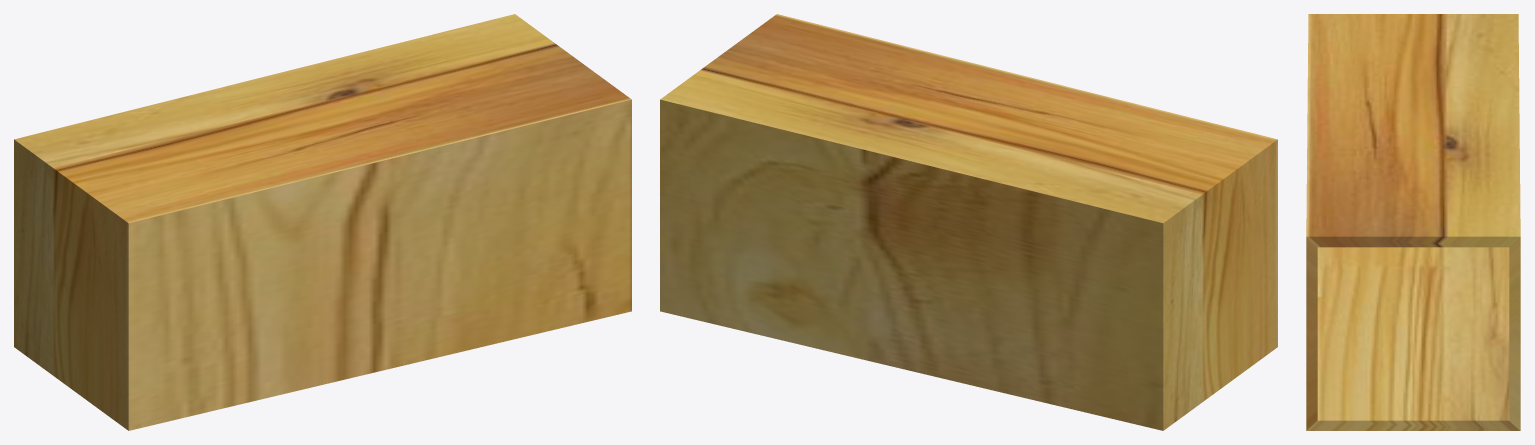
The model's file is EscaoeBox 2.fbx.
3 views of the same model, side by side, from view 1: azimuth 30°, elevation 25°; view 2: azimuth 150°, elevation 25°; view 3: azimuth 270°, elevation 25° (orthographic). The views are drawn at different scales.
Visible parts, largest first — view 1: 立方体; view 2: 立方体; view 3: 立方体.
Part boxes in pixels (<box>): 立方体: <box>14,14,631,430</box>; 立方体: <box>660,14,1277,430</box>; 立方体: <box>1306,14,1520,430</box>.
Bounding box in the file's own units: 556 × 224 × 224.
1 material, 1 textured.
